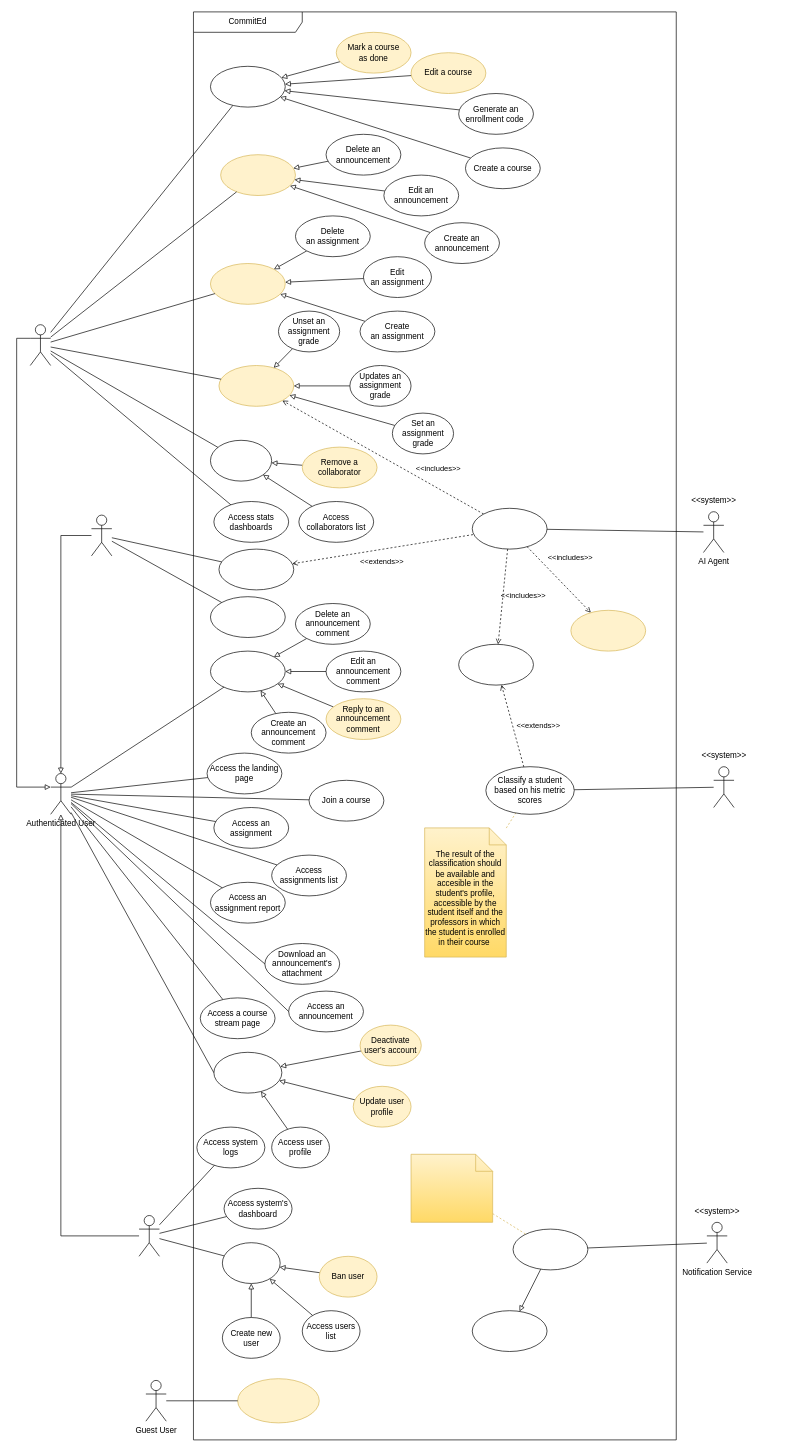
Image size: 804x1452. Some labels were removed from this diagram. Here are the shapes that lost their labels. From the top down, the centre of each, then its label:
(247,86): Manage a course
(257,175): Manage an announcement
(247,283): Manage an assignment
(40,345): Professor
(256,385): Manage an assignment grade
(241,460): Manage collaborators
(101,535): Student
(509,528): Analyse code base
(256,569): Lock in an assignment
(247,617): Unlock an assignment
(608,630): Generate report
(247,671): Manage an announcement comment
(495,664): Generate metric scores
(723,787): AI classification Service
(247,1072): Manage user profile
(451,1188): The colored use cases includes the use case Send an email
(148,1235): Admin
(550,1249): Send an email
(251,1263): Manage users
(509,1331): Notify user
(278,1400): Inscription
